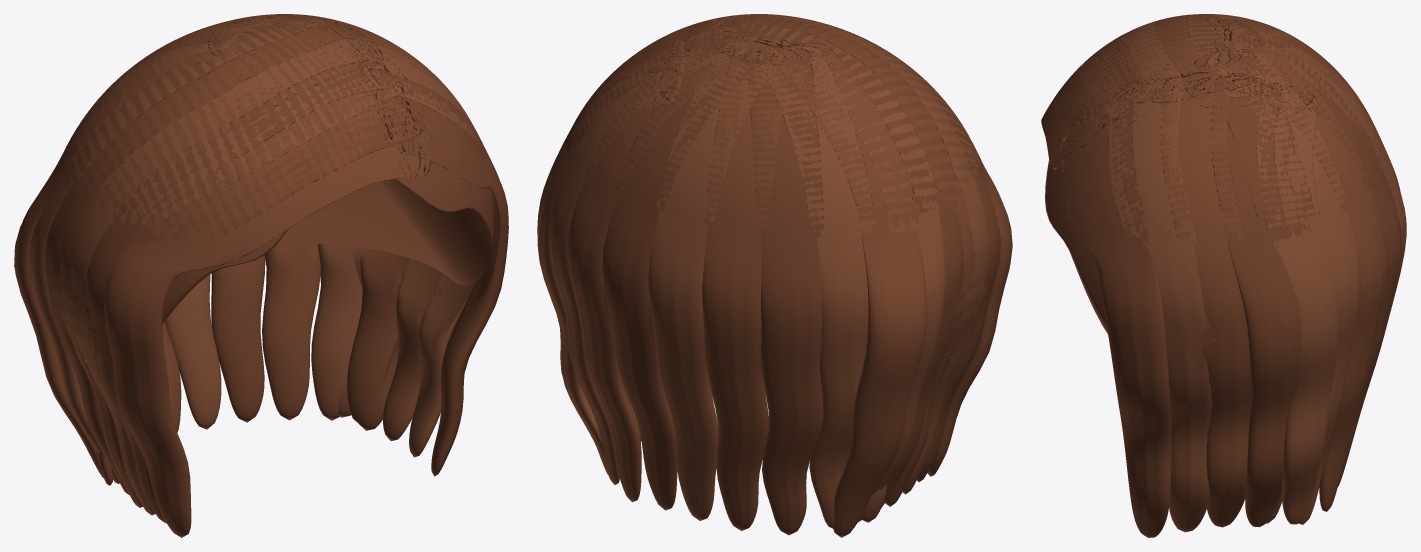
The model's file is Feminine-side-sweep-pashmina-hair.glb.
3 views of the same model, side by side, from view 1: azimuth 30°, elevation 25°; view 2: azimuth 150°, elevation 25°; view 3: azimuth 270°, elevation 25° (orthographic). The views are drawn at different scales.
Visible parts, largest first — view 1: 226 hair / Hair / sculpted 0.001, 226 hair / Hair / sculpted 1.002, 226 hair / Hair / sculpted 2.001, 226 hair / Hair / sculpted 1.001; view 2: 226 hair / Hair / sculpted 0.001, 226 hair / Hair / sculpted 2.001, 226 hair / Hair / sculpted 1.002; view 3: 226 hair / Hair / sculpted 1.002, 226 hair / Hair / sculpted 2.001, 226 hair / Hair / sculpted 0.001, 226 hair / Hair / sculpted 1.001.
Part boxes in pixels (left/top/right/bottom): 226 hair / Hair / sculpted 0.001: left=14, top=14, right=452, bottom=537; 226 hair / Hair / sculpted 1.002: left=44, top=14, right=508, bottom=523; 226 hair / Hair / sculpted 2.001: left=29, top=14, right=495, bottom=515; 226 hair / Hair / sculpted 1.001: left=84, top=162, right=493, bottom=362; 226 hair / Hair / sculpted 0.001: left=567, top=14, right=1012, bottom=537; 226 hair / Hair / sculpted 2.001: left=537, top=14, right=988, bottom=528; 226 hair / Hair / sculpted 1.002: left=537, top=16, right=1000, bottom=535; 226 hair / Hair / sculpted 1.002: left=1054, top=14, right=1401, bottom=537; 226 hair / Hair / sculpted 2.001: left=1078, top=14, right=1406, bottom=532; 226 hair / Hair / sculpted 0.001: left=1041, top=14, right=1400, bottom=527; 226 hair / Hair / sculpted 1.001: left=1045, top=159, right=1107, bottom=333.
Size of the model in its own units: 0.9955 by 1.06 by 0.7962.
